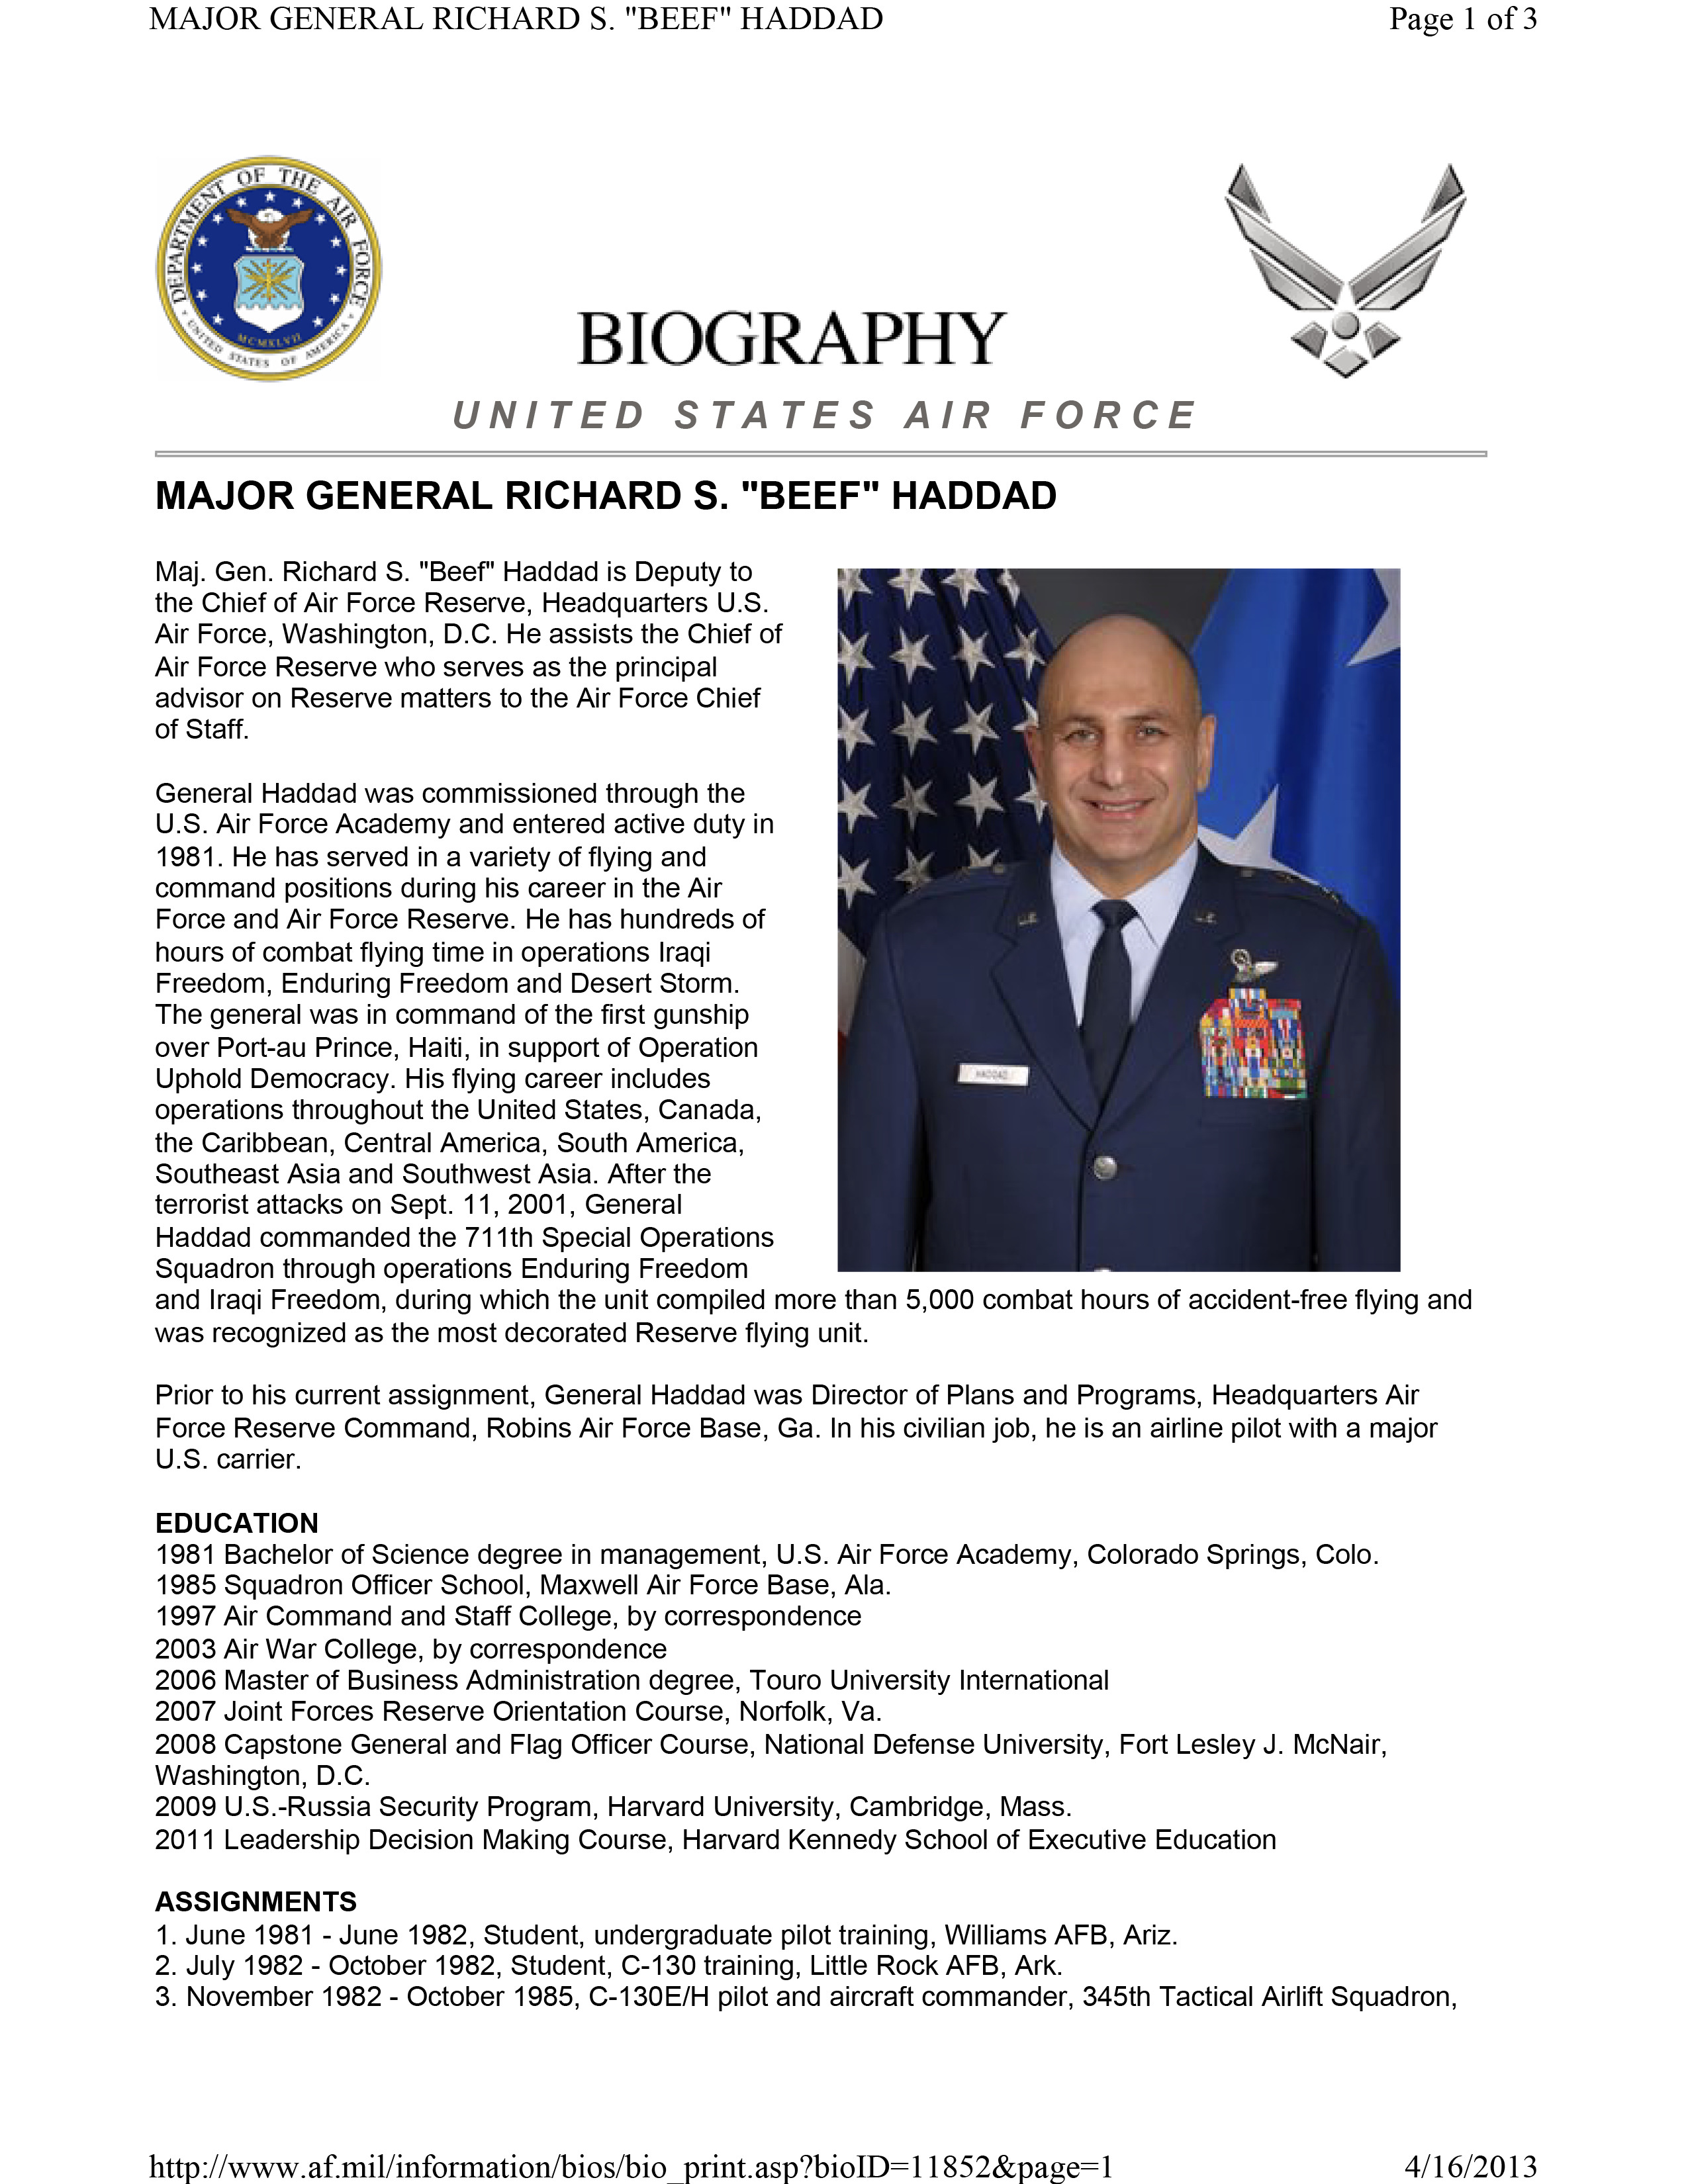figure: (824, 564, 1403, 1273), (1222, 163, 1468, 392), (163, 163, 379, 379)
list: (163, 1930, 1452, 2017)
section: (160, 480, 1059, 523), (587, 301, 1020, 379), (452, 397, 1209, 433), (154, 1879, 363, 1922), (156, 1507, 324, 1539)
text: (156, 776, 1475, 1356), (156, 1551, 1376, 1847), (154, 562, 785, 745), (154, 1383, 1434, 1471), (151, 0, 888, 39), (144, 2149, 1110, 2173), (1388, 4, 1537, 39), (1404, 2145, 1543, 2173)
